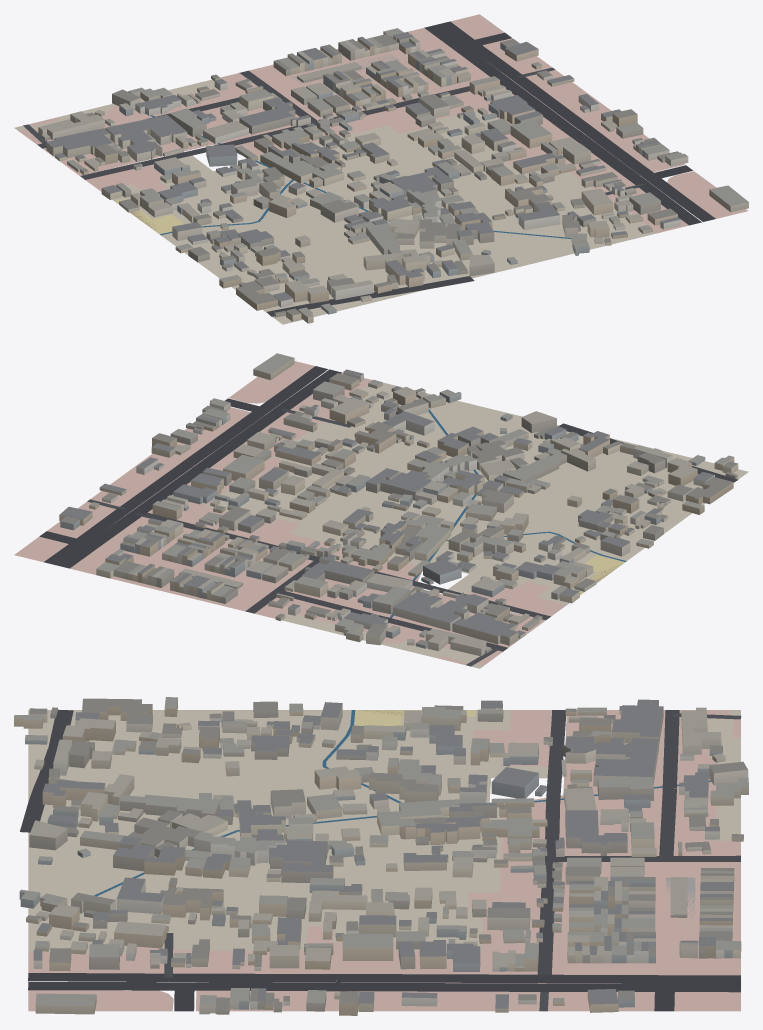
3 views of the same model, one above another, from view 1: azimuth 30°, elevation 25°; view 2: azimuth 150°, elevation 25°; view 3: azimuth 270°, elevation 25° (orthographic). The views are drawn at different scales.
Parts seen in each view (by area): view 1: buildings_roofs, landuse, buildings_walls, roads; view 2: buildings_roofs, landuse, buildings_walls, roads; view 3: landuse, buildings_roofs, buildings_walls, roads, water.
Boxes of the visible parts, x1=… form: buildings_roofs: x1=39, y1=28, x2=748, y2=317; landuse: x1=14, y1=14, x2=747, y2=324; buildings_walls: x1=38, y1=31, x2=748, y2=323; roads: x1=23, y1=21, x2=715, y2=316; buildings_roofs: x1=59, y1=353, x2=737, y2=650; landuse: x1=14, y1=361, x2=748, y2=668; buildings_walls: x1=59, y1=358, x2=738, y2=656; roads: x1=39, y1=366, x2=738, y2=666; landuse: x1=28, y1=710, x2=740, y2=1011; buildings_roofs: x1=14, y1=697, x2=748, y2=1010; buildings_walls: x1=14, y1=700, x2=748, y2=1015; roads: x1=20, y1=709, x2=741, y2=1011; water: x1=94, y1=710, x2=711, y2=896.
Size of the model in its own units: 515 by 9.63 by 515.
